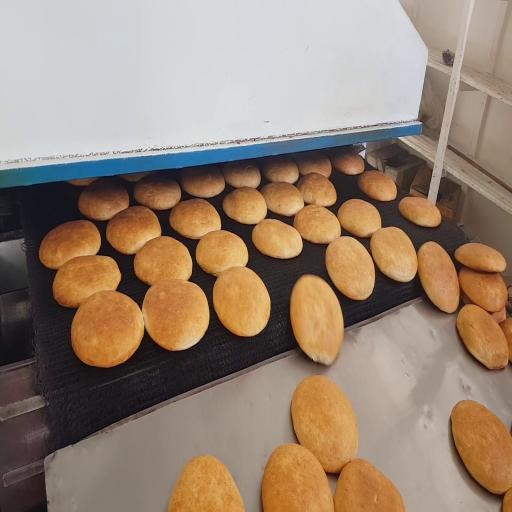bread: (291, 376, 358, 473), (451, 401, 511, 494), (71, 291, 143, 367), (262, 444, 334, 511), (290, 275, 343, 365), (142, 279, 209, 350), (168, 456, 244, 511), (213, 267, 270, 336), (334, 459, 405, 511), (53, 256, 121, 307), (457, 305, 509, 369), (326, 237, 375, 300), (39, 220, 101, 269), (418, 242, 459, 312), (134, 237, 192, 285), (106, 206, 161, 254), (371, 227, 417, 282), (196, 230, 248, 276), (459, 267, 507, 311), (79, 179, 129, 220), (170, 199, 221, 239), (252, 219, 302, 258), (294, 205, 341, 244), (134, 174, 181, 210), (338, 199, 381, 237), (223, 187, 267, 224), (455, 243, 506, 272), (262, 182, 304, 216), (182, 166, 225, 197), (297, 173, 336, 206), (399, 197, 441, 227), (358, 171, 397, 201), (261, 155, 299, 184), (222, 161, 260, 188), (295, 154, 331, 178), (331, 151, 364, 175), (500, 319, 511, 361), (120, 172, 154, 182), (488, 309, 506, 323), (67, 178, 97, 186), (490, 308, 506, 323), (503, 489, 511, 511), (506, 285, 511, 314)
